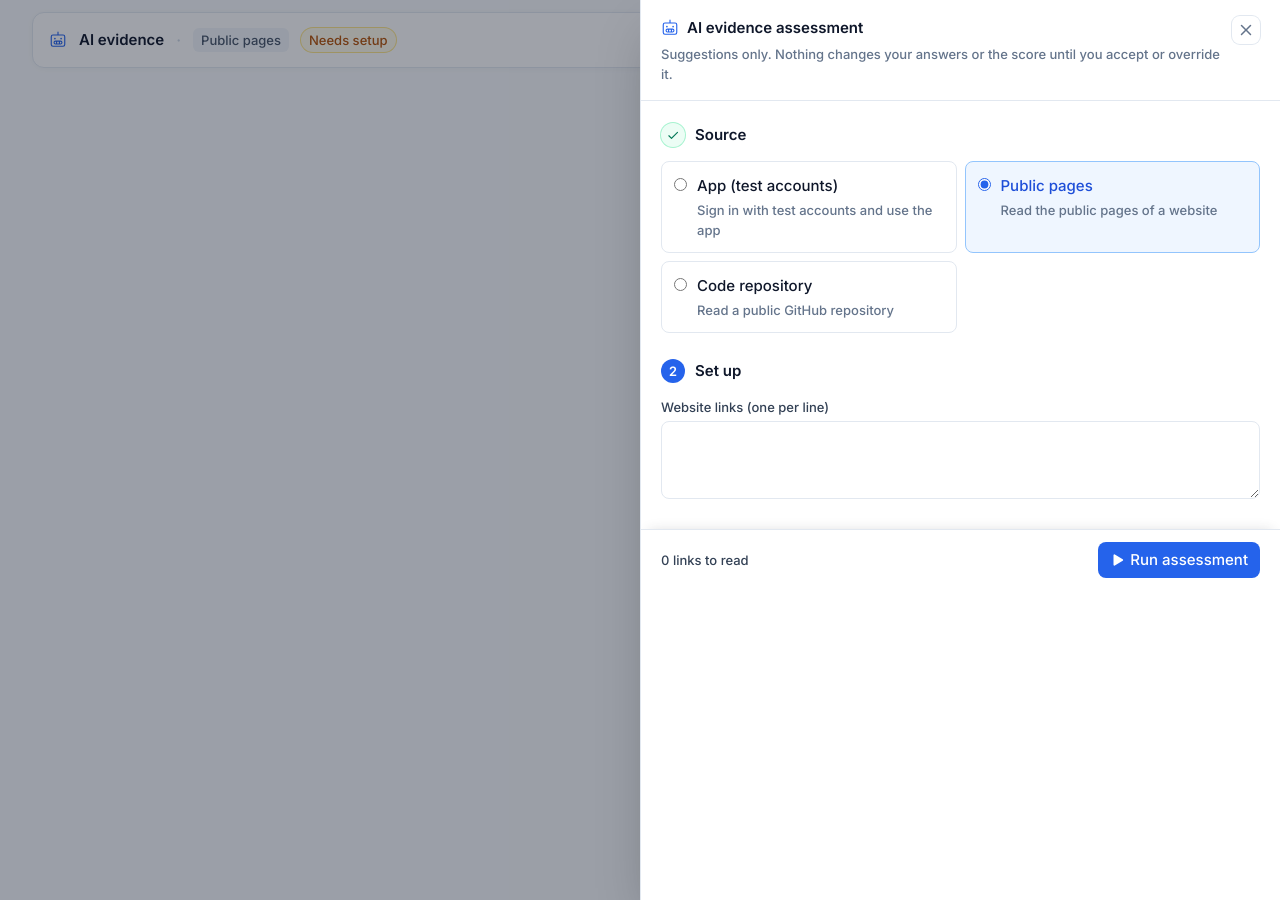
Test: Code repository source in the evidence panel › shows the form with its exact texts
Earlier steps of the test are not shown.
Click the radio button labelled "Code repository".
click(680, 284)  # box [674, 278, 687, 291]
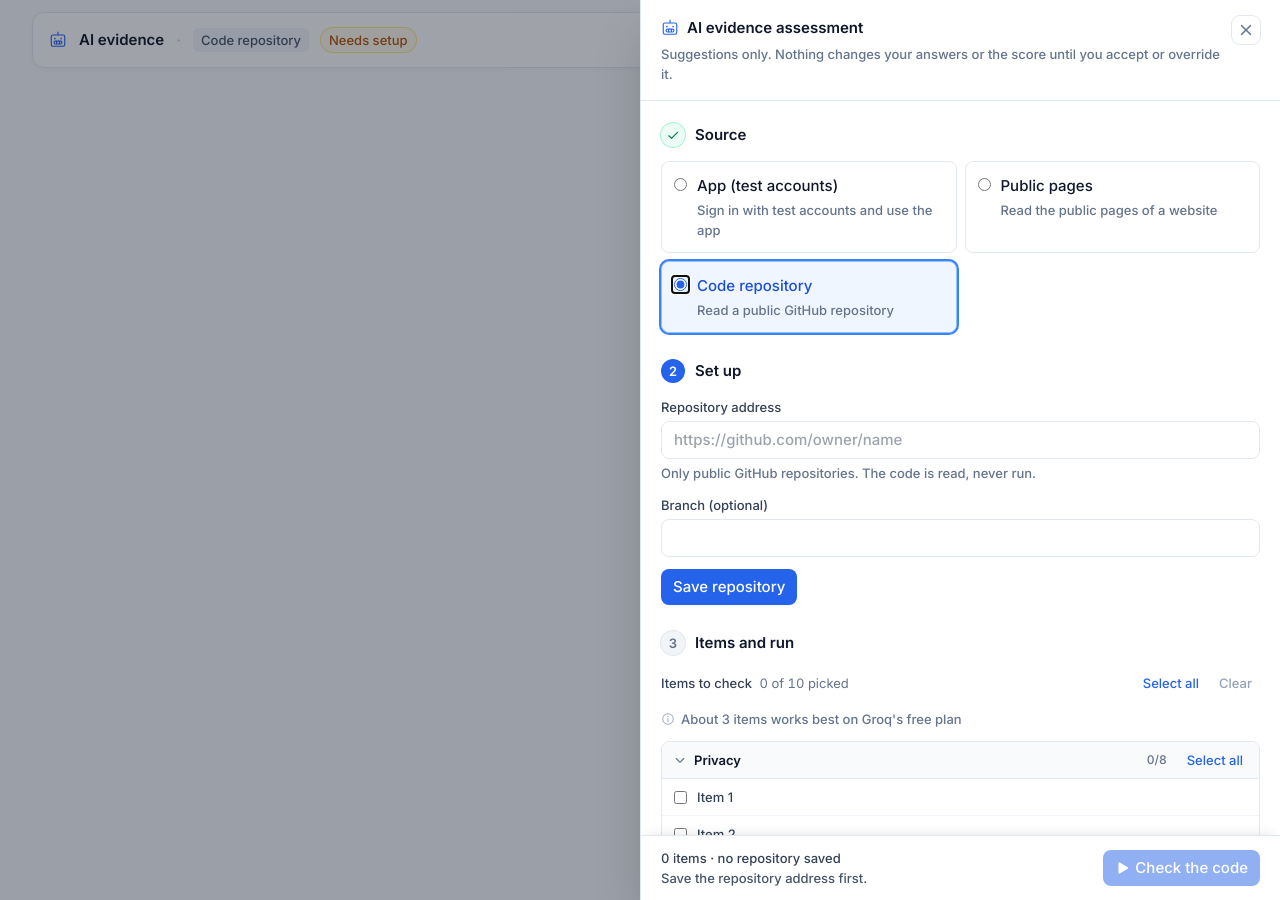
Expected: the field labelled "Repository address" is shown, [661, 421, 1260, 459]
Expected: the field labelled "Branch (optional)" is shown, [661, 519, 1260, 557]
Expected: the button "Save repository" is shown, [661, 569, 797, 605]
